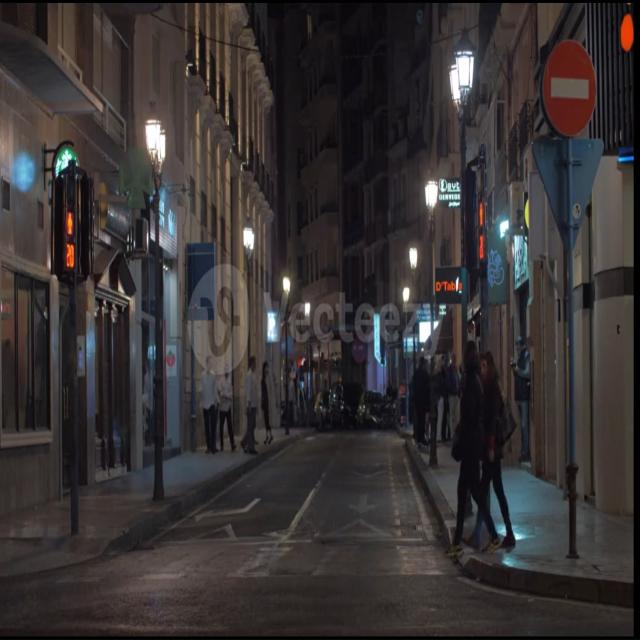pedestrian: (448, 341, 515, 556)
